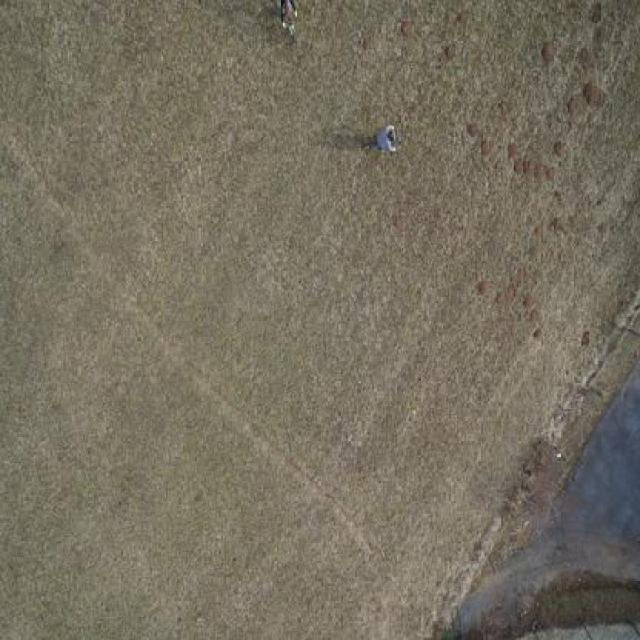Person: (368, 114, 404, 164), (276, 0, 309, 46)
